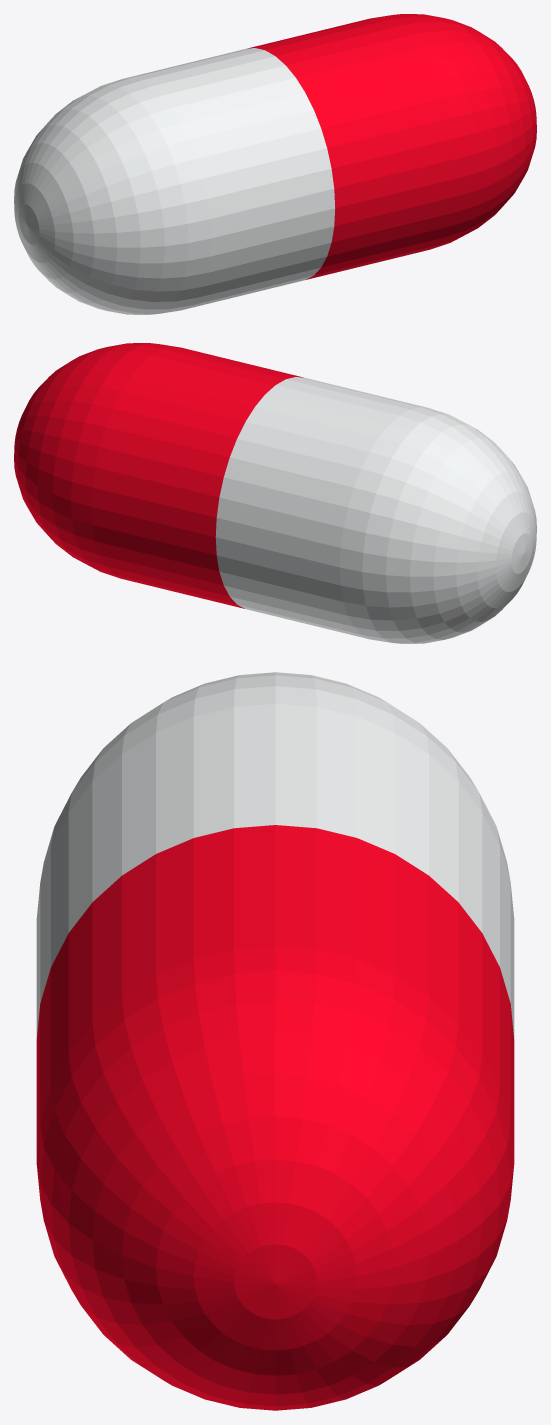
Rendered from medicineB.glb.
The picture shows the model from 3 angles, top to bottom: view 1: azimuth 30°, elevation 25°; view 2: azimuth 150°, elevation 25°; view 3: azimuth 270°, elevation 25°; orthographic projection. The views are drawn at different scales.
Parts seen in each view (by area): view 1: a9c65be5-855e-4b0c-8cf7-d04f03cd8fc2; view 2: a9c65be5-855e-4b0c-8cf7-d04f03cd8fc2; view 3: a9c65be5-855e-4b0c-8cf7-d04f03cd8fc2.
Part boxes in pixels (x1=…): a9c65be5-855e-4b0c-8cf7-d04f03cd8fc2: x1=14, y1=14, x2=536, y2=314; a9c65be5-855e-4b0c-8cf7-d04f03cd8fc2: x1=14, y1=343, x2=536, y2=643; a9c65be5-855e-4b0c-8cf7-d04f03cd8fc2: x1=36, y1=672, x2=514, y2=1410.
Bounding box in the file's own units: 0.5 × 0.2083 × 0.2083.
